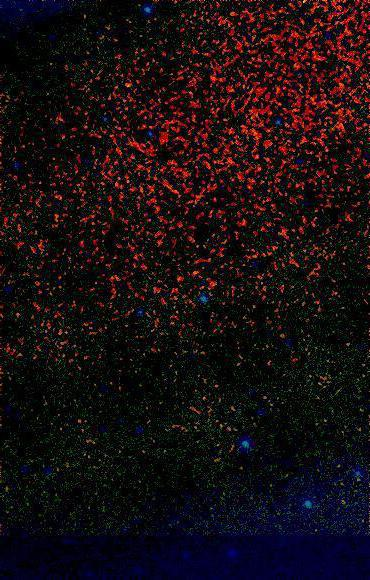star: (117, 73, 147, 103)
